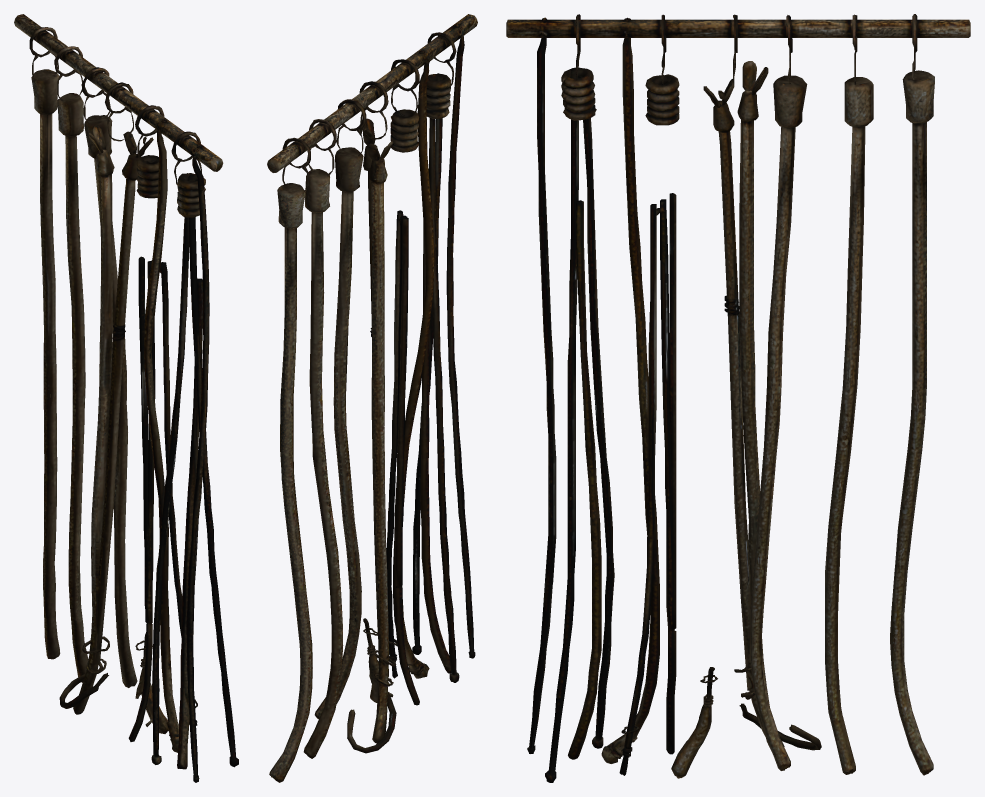
3 renders of one model, left to right at view 1: azimuth 30°, elevation 25°; view 2: azimuth 150°, elevation 25°; view 3: azimuth 270°, elevation 25°, orthographic. The views are drawn at different scales.
Parts seen in each view (by area): view 1: tripo_node_60192140-ee0e-4e19-8a8a-01856234e3e1; view 2: tripo_node_60192140-ee0e-4e19-8a8a-01856234e3e1; view 3: tripo_node_60192140-ee0e-4e19-8a8a-01856234e3e1.
Part boxes in pixels (x1,y1,x2,y2): tripo_node_60192140-ee0e-4e19-8a8a-01856234e3e1: (14,14,238,782); tripo_node_60192140-ee0e-4e19-8a8a-01856234e3e1: (267,14,477,782); tripo_node_60192140-ee0e-4e19-8a8a-01856234e3e1: (506,14,970,782).
Bounding box in the file's own units: 0.123 × 0.998 × 0.5605.
Materials: 1 (1 with a texture image).
